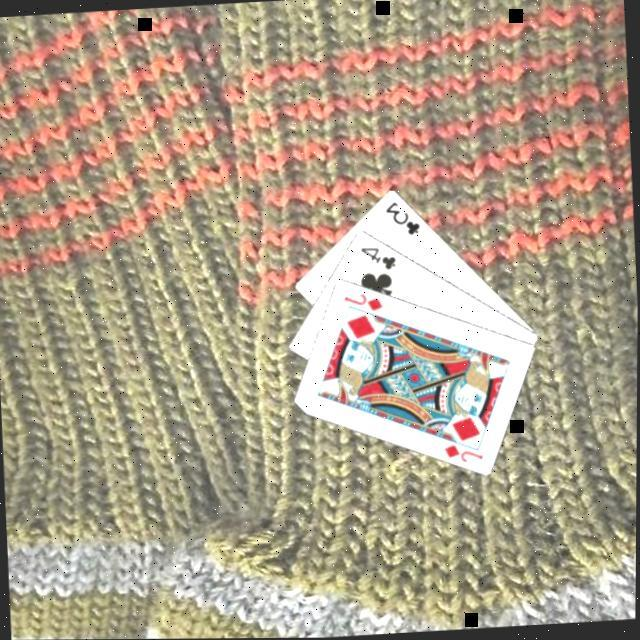3C: (380, 195, 422, 238)
4C: (356, 241, 400, 273)
JD: (440, 438, 486, 465), (339, 288, 385, 314)
